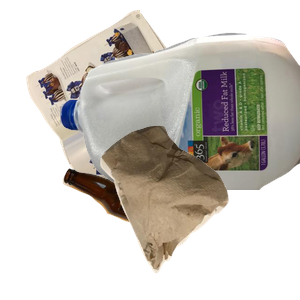glass: (60, 166, 241, 300)
paper: (24, 10, 235, 190)
plastic: (60, 30, 300, 210)
trash: (98, 123, 300, 300)
